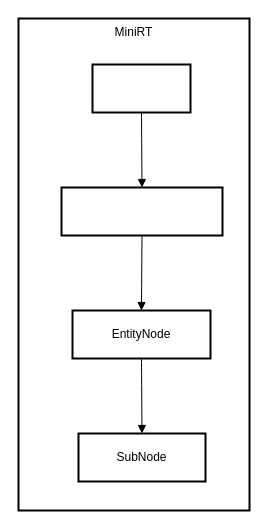
Image size: 267x528. Some labels were removed from this diagram. Each missing label, with the box of its shape:
InterfaceNode: (60, 186, 223, 236)
Node: (91, 63, 191, 113)
